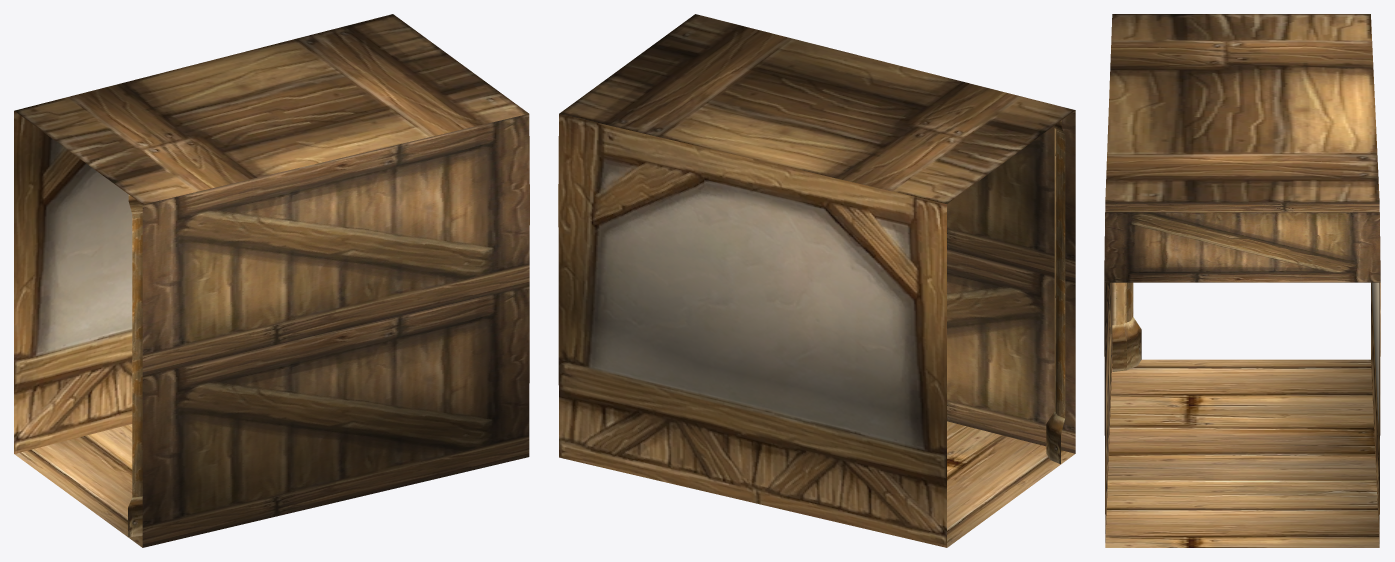
The model's file is stormwind_214.fbx.
3 views of the same model, side by side, from view 1: azimuth 30°, elevation 25°; view 2: azimuth 150°, elevation 25°; view 3: azimuth 270°, elevation 25° (orthographic).
Visible parts, largest first — view 1: stormwind_214_56, stormwind_214_55, stormwind_214_48, stormwind_214_51, stormwind_214_53; view 2: stormwind_214_48, stormwind_214_55, stormwind_214_56, stormwind_214_51, stormwind_214_53; view 3: stormwind_214_55, stormwind_214_51, stormwind_214_56, stormwind_214_53, stormwind_214_48.
Boxes of the visible parts, x1,y1,x2,y2 form: stormwind_214_56: (142,114,529,547); stormwind_214_55: (14,14,528,204); stormwind_214_48: (14,111,132,453); stormwind_214_51: (14,424,142,547); stormwind_214_53: (128,195,142,537); stormwind_214_48: (558,114,946,547); stormwind_214_55: (559,14,1075,203); stormwind_214_56: (947,110,1075,453); stormwind_214_51: (947,421,1074,547); stormwind_214_53: (1046,120,1065,464); stormwind_214_55: (1105,14,1379,202); stormwind_214_51: (1105,359,1379,547); stormwind_214_56: (1104,202,1380,542); stormwind_214_53: (1112,282,1141,371); stormwind_214_48: (1371,282,1380,543).
Bounding box in the file's own units: 6.95 × 5.95 × 4.31.
